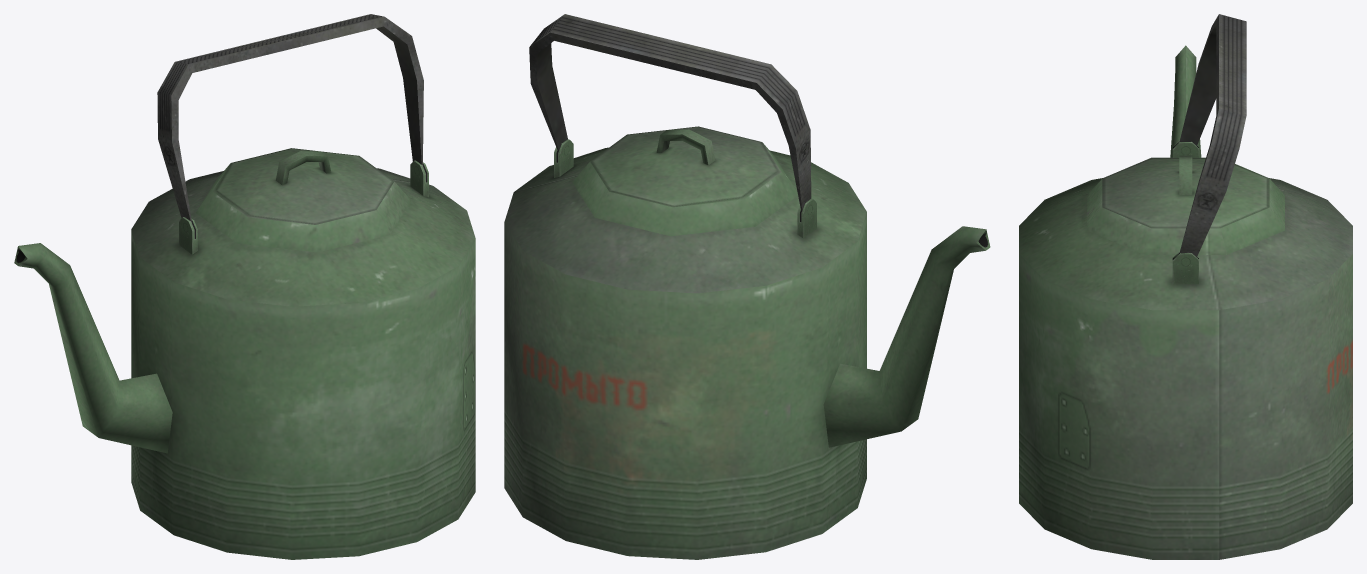
Rendered from kettle_mil.FBX.
3 renders of one model, left to right at view 1: azimuth 30°, elevation 25°; view 2: azimuth 150°, elevation 25°; view 3: azimuth 270°, elevation 25°, orthographic. The views are drawn at different scales.
Parts seen in each view (by area): view 1: kettle_mil; view 2: kettle_mil; view 3: kettle_mil.
Part boxes in pixels (x1,y1,x2,y2): kettle_mil: (14, 14, 475, 559); kettle_mil: (504, 14, 990, 559); kettle_mil: (1019, 14, 1352, 559).
Size of what is drawn, in the model's own units: 45.3 by 43.32 by 30.61.
